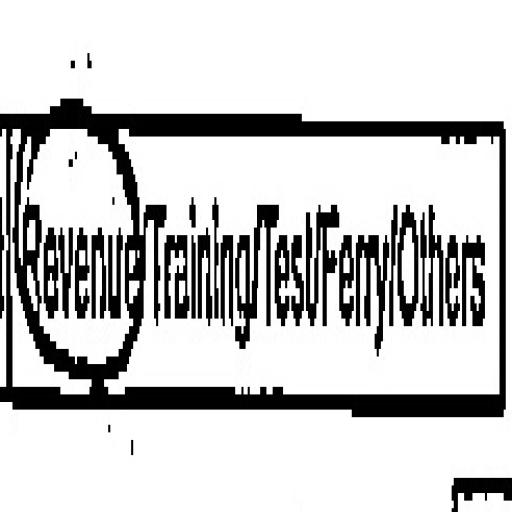check: (9, 51, 144, 438)
